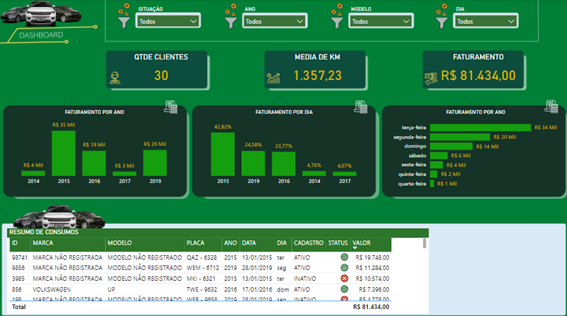

What the dashboard file says about the page in this screenshot:
{"tool":"powerbi","page":{"name":"LOCAÇÃO DE VEICULOS","canvas":[1280,720],"ordinal":1},"visuals":[{"type":"columnChart","title":"FATURAMENTO POR ANO","fields":{"Y":["tb_km.FAT MEDIA"],"Category":["tb_km.ANO.Variation.Hierarquia de datas.Ano","tb_km.ANO.Variation.Hierarquia de datas.Trimestre","tb_km.ANO.Variation.Hierarquia de datas.Mês","tb_km.ANO.Variation.Hierarquia de datas.Dia"]},"box":[15.8,246.2,393.1,190.1],"z":0},{"type":"columnChart","title":"FATURAMENTO POR DIA","fields":{"Y":["tb_km.FAT MEDIA"],"Category":["tb_km.ANO.Variation.Hierarquia de datas.Ano","tb_km.ANO.Variation.Hierarquia de datas.Trimestre","tb_km.ANO.Variation.Hierarquia de datas.Mês","tb_km.ANO.Variation.Hierarquia de datas.Dia"]},"box":[442.1,246.2,393.1,190.1],"z":1000},{"type":"clusteredBarChart","title":"FATURAMENTO POR ANO","fields":{"Y":["Divide(tb_km.FAT MEDIA, ScopedEval(tb_km.FAT MEDIA, []))"],"Category":["tb_km.Nome do Dia"]},"box":[872.6,246.2,393.1,190.1],"z":2000},{"type":"slicer","fields":{"Values":["tb_km.SITUAÇÃO CADASTRAL"]},"box":[298.1,10.1,159.8,69.1],"z":3000},{"type":"slicer","fields":{"Values":["tb_km.ANO"]},"box":[537.1,10.1,159.8,69.1],"z":4000},{"type":"slicer","fields":{"Values":["tb_km.MODELO"]},"box":[776.2,10.1,159.8,69.1],"z":5000},{"type":"slicer","fields":{"Values":["tb_km.DIA"]},"box":[1012.3,10.1,159.8,69.1],"z":6000},{"type":"card","title":"FATURAMENTO","fields":{"Values":["tb_km.FAT MEDIA"]},"box":[977.8,119.5,194.4,79.2],"z":7000},{"type":"card","title":"MEDIA DE KM","fields":{"Values":["tb_km.MEDIA KM"]},"box":[617.8,119.5,191.5,79.2],"z":8000},{"type":"card","title":"QTDE CLIENTES","fields":{"Values":["tb_km.QTDE CLIENTES"]},"box":[266.4,119.5,191.5,79.2],"z":9000},{"type":"tableEx","title":"RESUMO DE CONSUMOS","fields":{"Values":["tb_km.ID_CLIENTE","tb_km.MARCA","tb_km.MODELO","tb_km.PLACA","tb_km.ANO","tb_km.DATA","tb_km.DIA","tb_km.SITUAÇÃO CADASTRAL","tb_km.INCONE","tb_km.FAT MEDIA"]},"box":[15.8,515.5,947.5,191.5],"z":10000}]}

Visuals, with their boxes in screenshot pixels (x1, y1, x2, y2), scaled from the page's 1280x720 canvas onto the 567x316 screenshot:
"FATURAMENTO POR ANO" columnChart: locate(7, 108, 181, 191)
"FATURAMENTO POR DIA" columnChart: locate(196, 108, 370, 191)
"FATURAMENTO POR ANO" clusteredBarChart: locate(387, 108, 561, 191)
slicer - tb_km.SITUAÇÃO CADASTRAL: locate(132, 4, 203, 35)
slicer - tb_km.ANO: locate(238, 4, 309, 35)
slicer - tb_km.MODELO: locate(344, 4, 415, 35)
slicer - tb_km.DIA: locate(448, 4, 519, 35)
"FATURAMENTO" card: locate(433, 52, 519, 87)
"MEDIA DE KM" card: locate(274, 52, 358, 87)
"QTDE CLIENTES" card: locate(118, 52, 203, 87)
"RESUMO DE CONSUMOS" tableEx: locate(7, 226, 427, 310)
